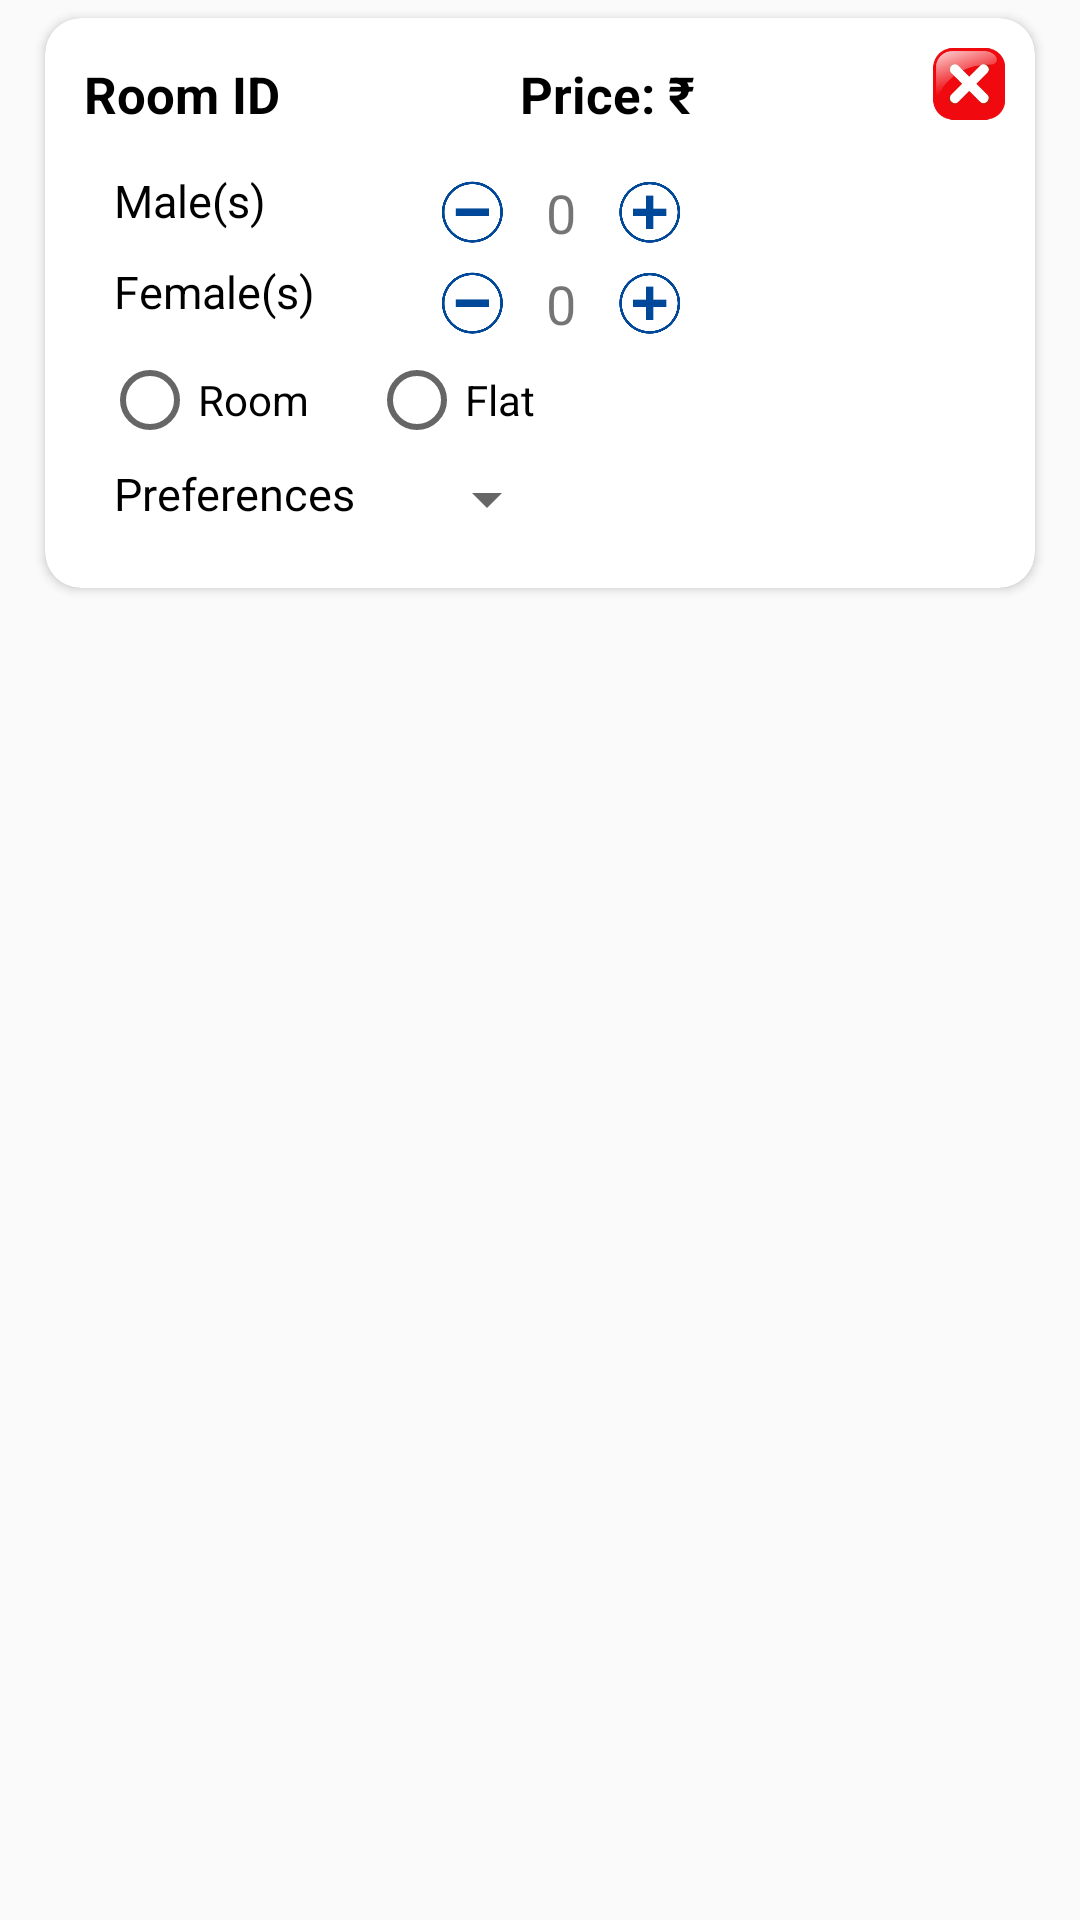

Where icons sit on this 1080*1920 app screen, as (x1, y1, x2, y2):
close: (933, 48, 1005, 120)
minusbuttondesc: (442, 181, 503, 243), (442, 272, 503, 334)
plusbuttondesc: (619, 182, 680, 243), (619, 273, 680, 334)
